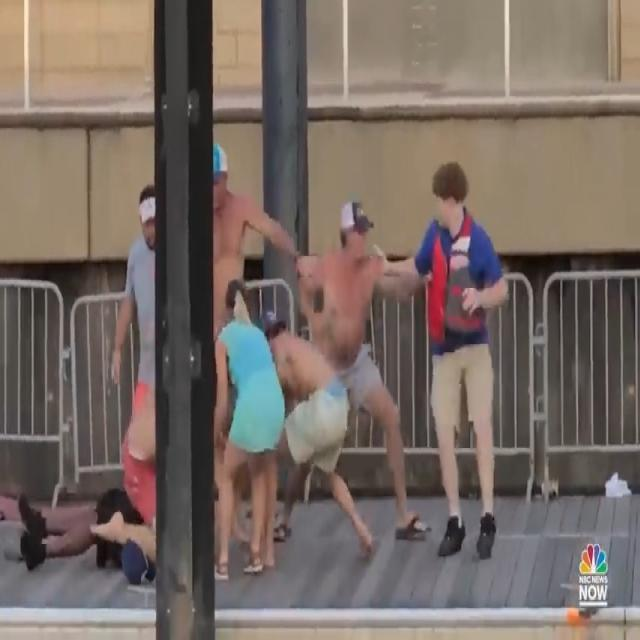fight: (11, 135, 515, 589)
